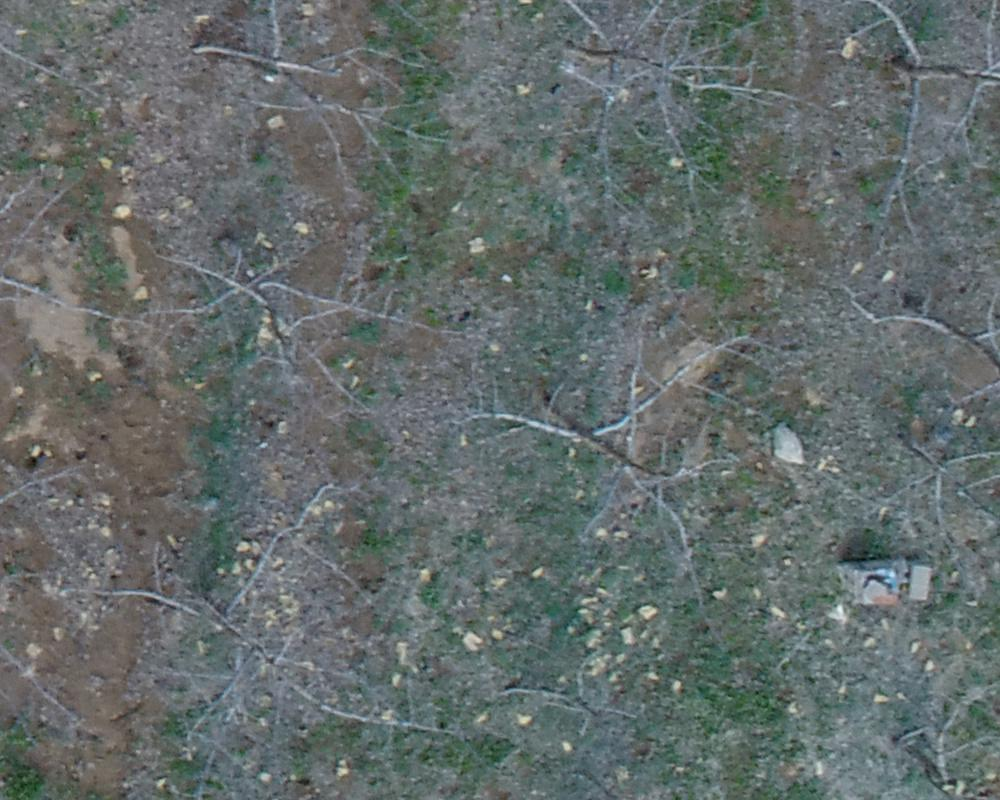apple: (85, 511, 431, 774), (461, 304, 782, 586), (516, 10, 798, 262), (113, 195, 416, 426), (175, 10, 469, 193), (806, 10, 990, 225), (835, 245, 990, 455), (10, 170, 157, 379), (850, 401, 990, 553), (494, 636, 645, 739)
